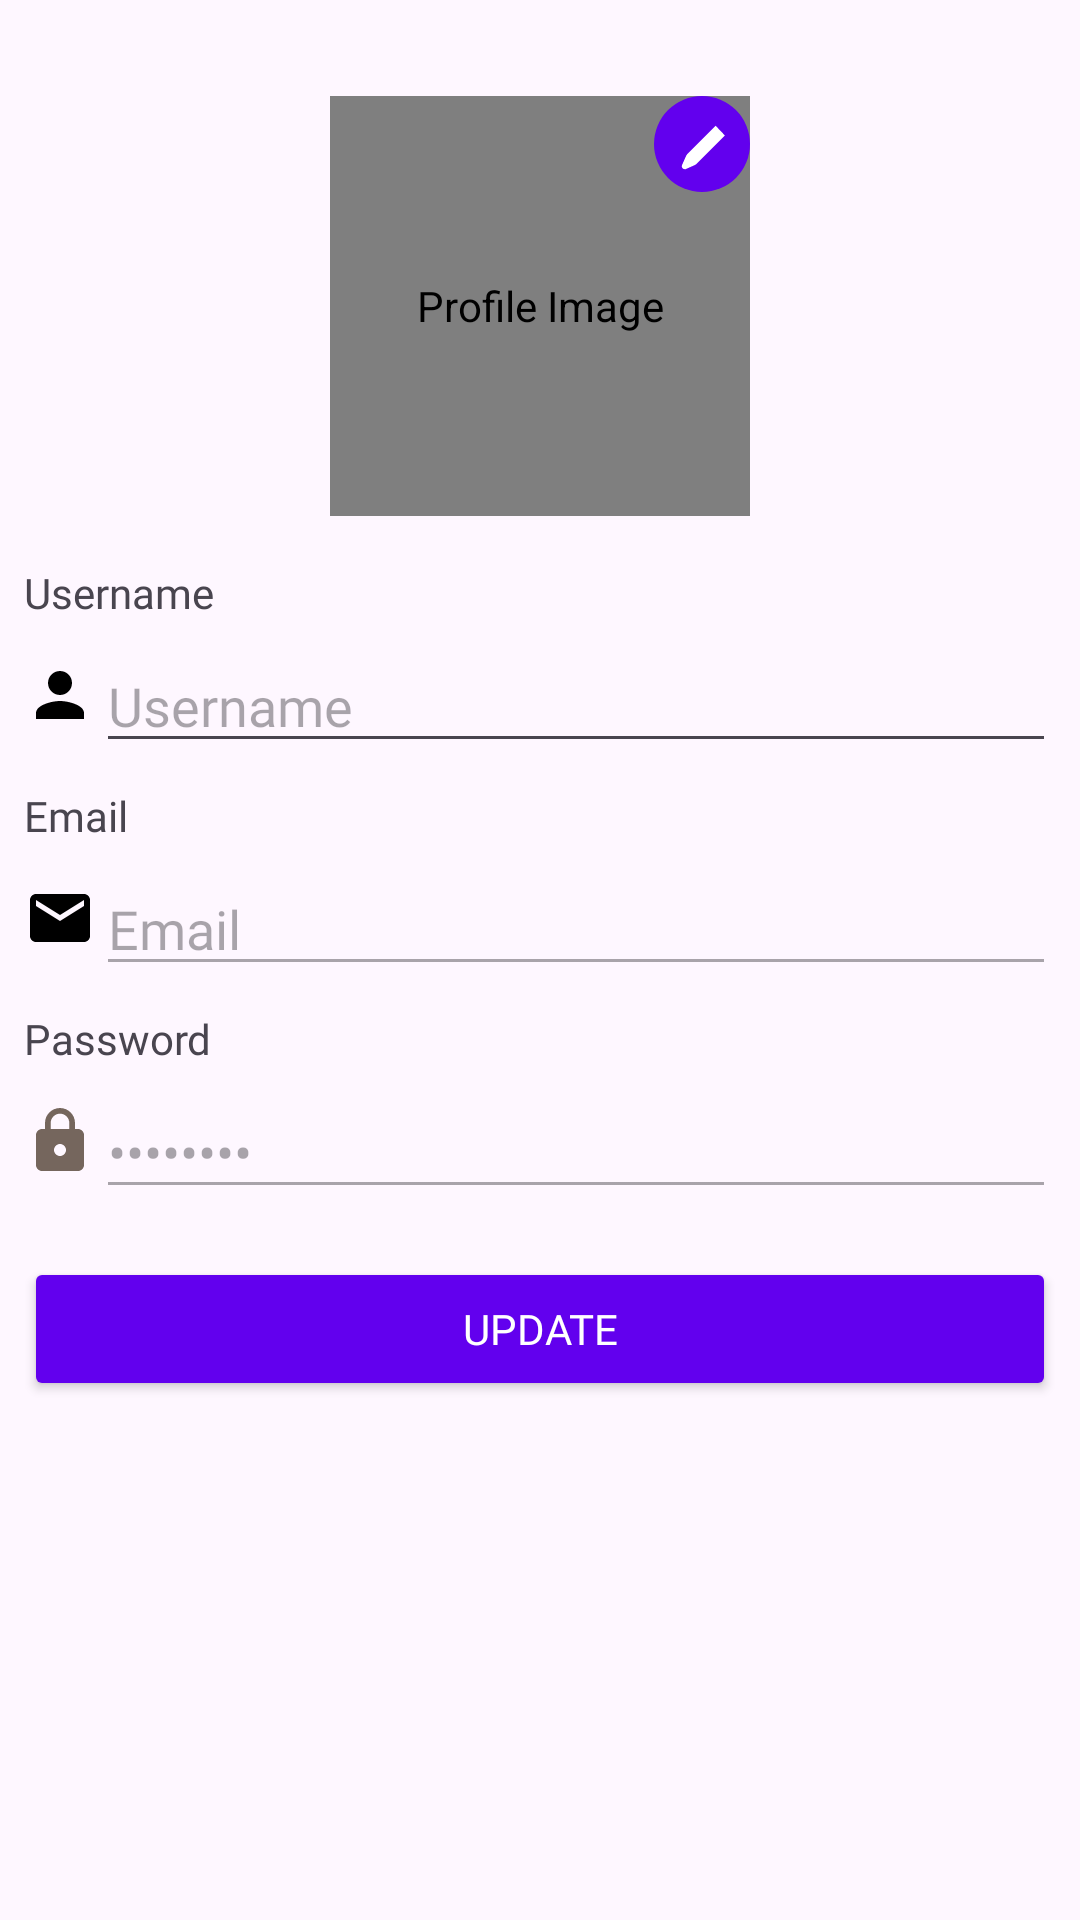

Screen size 1080 × 1920. Icon name, then its center in pixels as (x=x, y=y):
edit: (x=702, y=144)
profile: (x=60, y=695)
